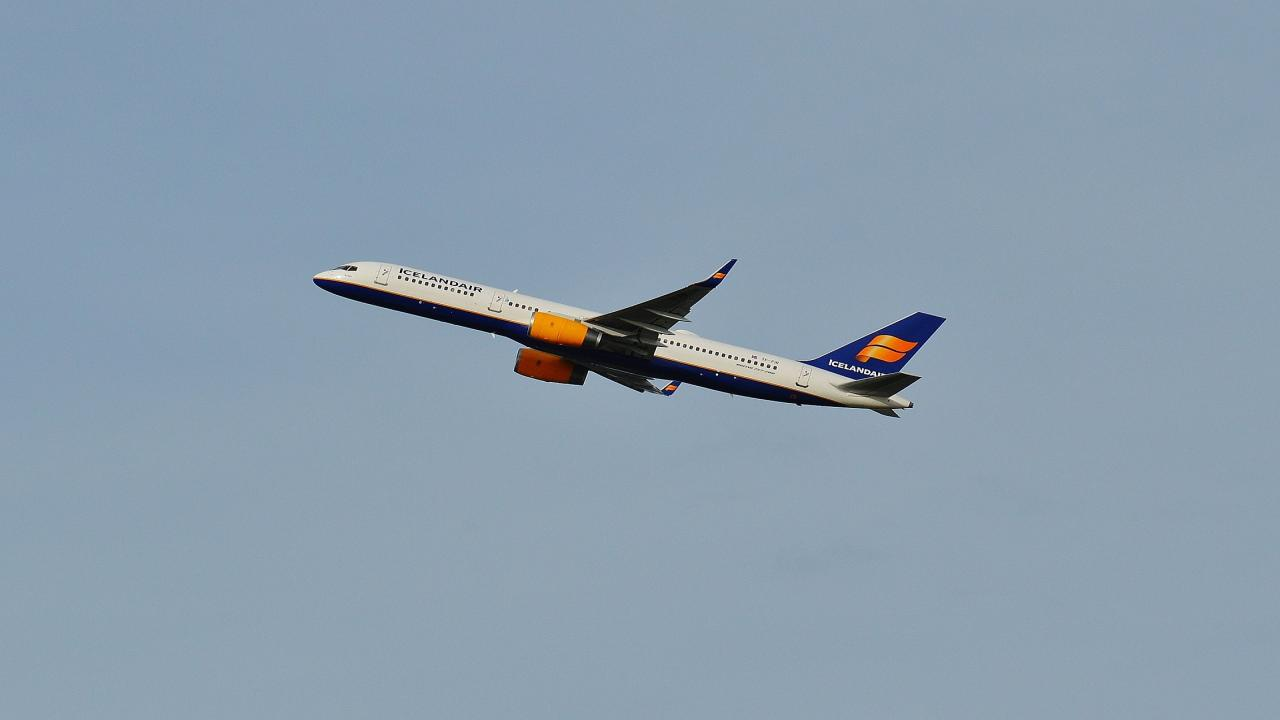Airplane: (303, 244, 957, 434)
